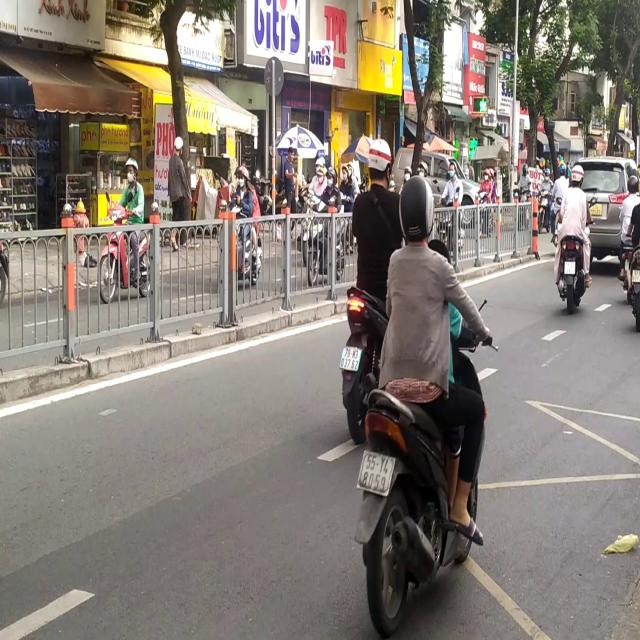bien_trang: (361, 441, 392, 503), (338, 342, 363, 375)
